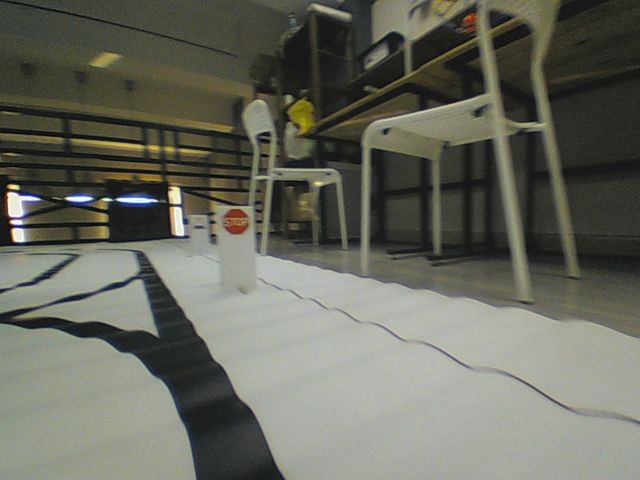Stop: (221, 206, 249, 235)
